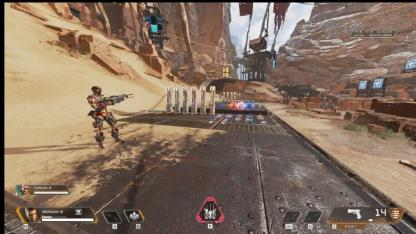Target: (86, 85, 124, 148), (334, 104, 336, 118)
